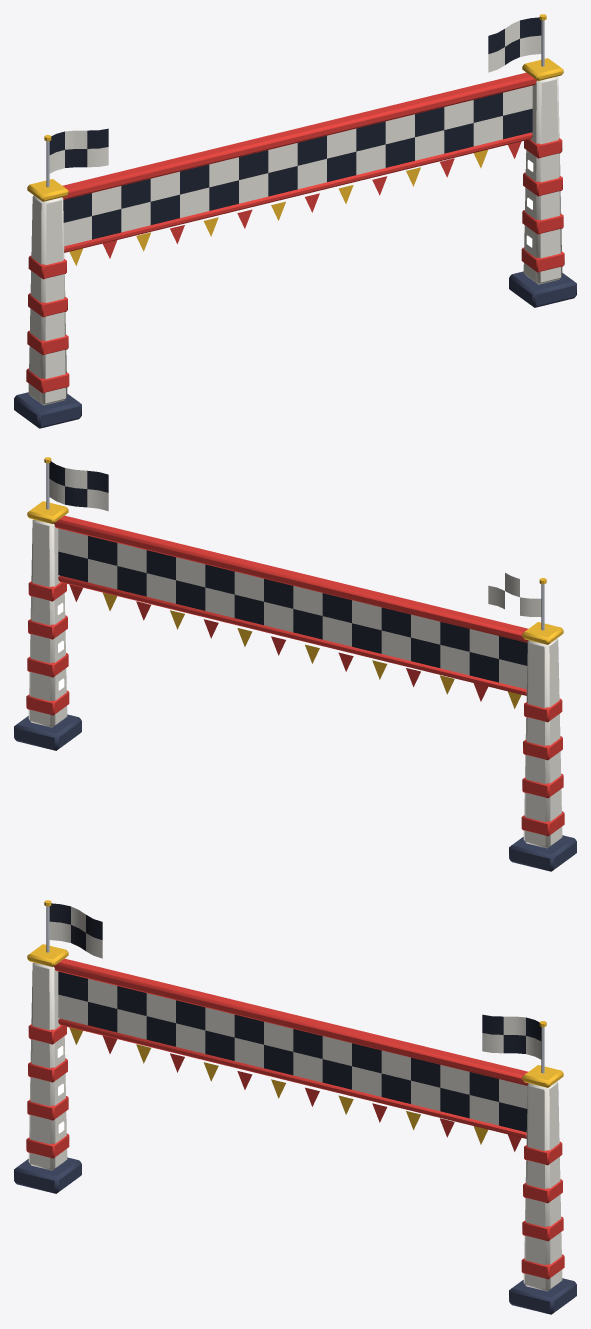
The model's file is finish.glb.
3 views of the same model, one above another, from view 1: azimuth 30°, elevation 25°; view 2: azimuth 150°, elevation 25°; view 3: azimuth 330°, elevation 25° (orthographic).
Visible parts, largest first — view 1: finish; view 2: finish; view 3: finish.
Part boxes in pixels (box(x1,y1,x2,y2)): finish: box(14, 14, 576, 428); finish: box(14, 457, 576, 871); finish: box(14, 900, 576, 1314).
Bounding box in the file's own units: 12 × 5.92 × 1.
